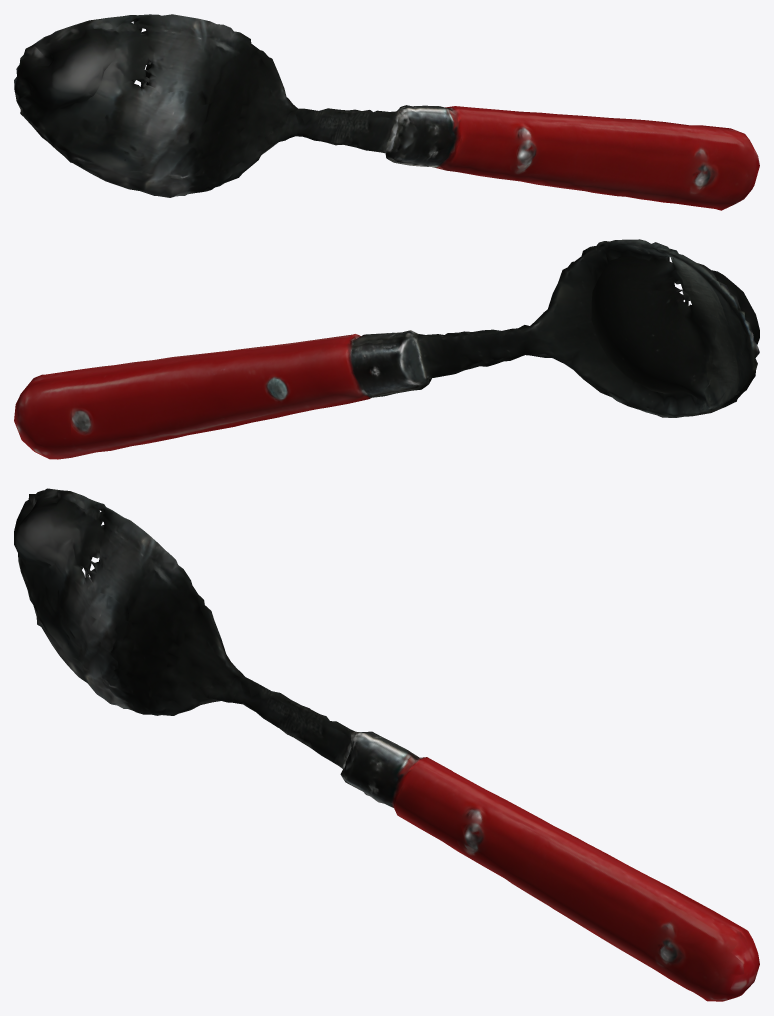
3 renders of one model, top to bottom at view 1: azimuth 30°, elevation 25°; view 2: azimuth 150°, elevation 25°; view 3: azimuth 330°, elevation 25°, orthographic. The views are drawn at different scales.
Parts seen in each view (by area): view 1: textured.042; view 2: textured.042; view 3: textured.042.
Part boxes in pixels (x1,y1,x2,y2): textured.042: (14, 14, 759, 210); textured.042: (14, 239, 759, 459); textured.042: (14, 488, 759, 1001).
Bounding box in the file's own units: 0.186 × 0.0829 × 0.021.
1 material, 1 textured.
